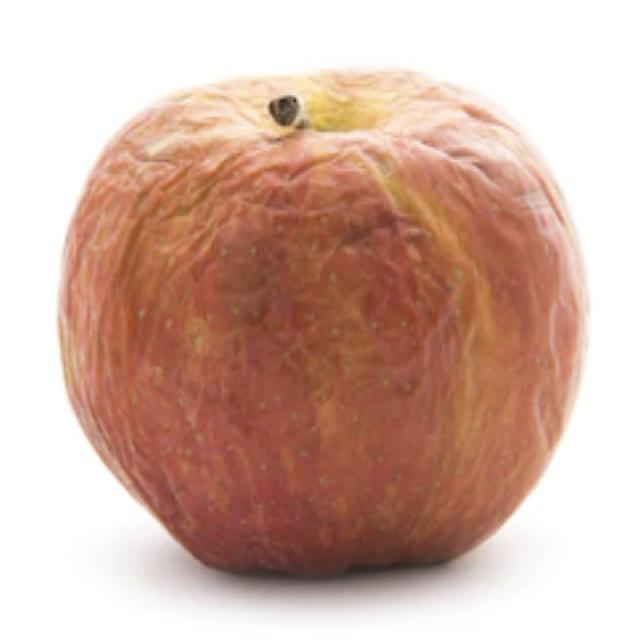Rotten: (73, 55, 590, 558)
